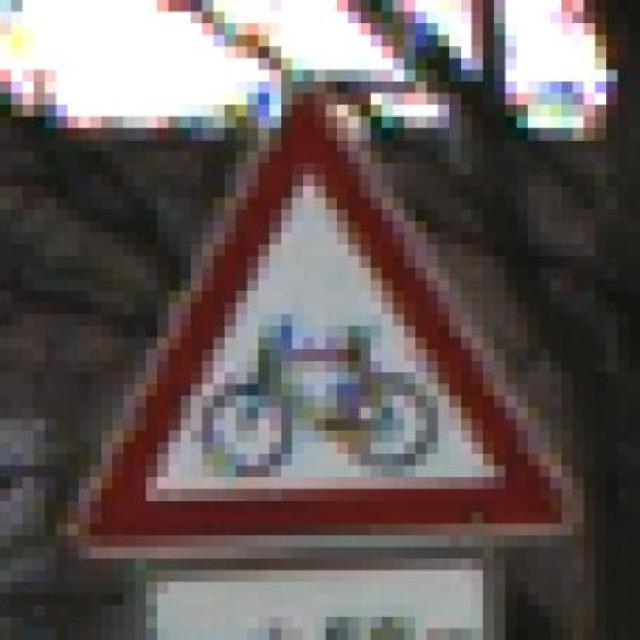CYCLE ROUTE AHEAD WARNING: (79, 46, 596, 571)
